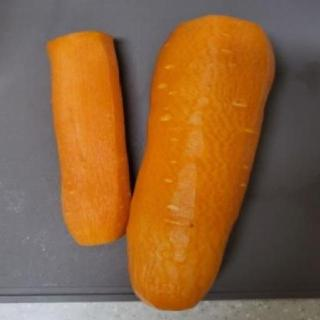carrot: (121, 9, 283, 317), (49, 26, 138, 252)
